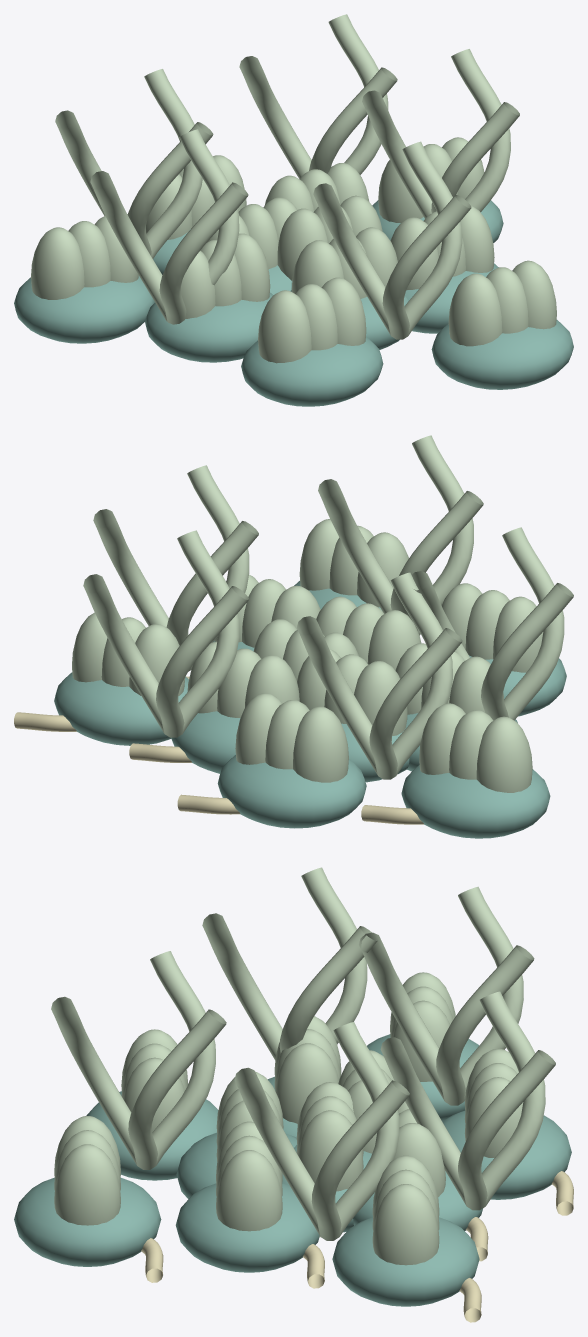
The model's file is bio_acid_mat_09_near.glb.
The picture shows the model from 3 angles, top to bottom: view 1: azimuth 30°, elevation 25°; view 2: azimuth 150°, elevation 25°; view 3: azimuth 270°, elevation 25°; orthographic projection. The views are drawn at different scales.
Parts seen in each view (by area): view 1: Spiral filament.006, Spiral filament.012, Spiral filament, Spiral filament.009, Spiral filament.003, Reaction vesicle.030, Reaction vesicle.021, Microbial cushion.007, Microbial cushion.010, Microbial cushion.009, Reaction vesicle.027, Microbial cushion.004 (+12 smaller); view 2: Spiral filament.009, Spiral filament.003, Spiral filament.006, Spiral filament.012, Spiral filament, Reaction vesicle.018, Reaction vesicle.027, Microbial cushion.006, Microbial cushion.009, Microbial cushion.008, Reaction vesicle.030, Reaction vesicle.021 (+15 smaller); view 3: Spiral filament.006, Spiral filament, Spiral filament.009, Spiral filament.003, Spiral filament.012, Microbial cushion.008, Microbial cushion.010, Microbial cushion.005, Reaction vesicle.030, Reaction vesicle.024, Reaction vesicle.015, Reaction vesicle (+17 smaller).
Part boxes in pixels (<box>): Spiral filament.006: <box>313,141,471,339</box>; Spiral filament.012: <box>90,129,248,324</box>; Spiral filament: <box>362,49,519,218</box>; Spiral filament.009: <box>239,14,397,178</box>; Spiral filament.003: <box>55,69,213,258</box>; Reaction vesicle.030: <box>448,260,556,346</box>; Reaction vesicle.021: <box>258,277,366,363</box>; Microbial cushion.007: <box>241,336,383,406</box>; Microbial cushion.010: <box>431,320,573,389</box>; Microbial cushion.009: <box>14,275,154,343</box>; Reaction vesicle.027: <box>31,216,138,299</box>; Microbial cushion.004: <box>145,292,273,362</box>; Spiral filament.009: <box>83,530,248,737</box>; Spiral filament.003: <box>297,572,462,779</box>; Spiral filament.006: <box>318,435,483,635</box>; Spiral filament.012: <box>411,527,573,720</box>; Spiral filament: <box>93,465,258,671</box>; Reaction vesicle.018: <box>235,693,348,782</box>; Reaction vesicle.027: <box>419,703,532,792</box>; Microbial cushion.006: <box>217,755,366,828</box>; Microbial cushion.009: <box>401,765,550,838</box>; Microbial cushion.008: <box>54,672,188,745</box>; Reaction vesicle.030: <box>299,519,408,607</box>; Reaction vesicle.021: <box>441,583,543,672</box>; Spiral filament.006: <box>51,951,226,1169</box>; Spiral filament: <box>234,1022,409,1240</box>; Spiral filament.009: <box>380,991,555,1210</box>; Spiral filament.003: <box>359,886,534,1105</box>; Spiral filament.012: <box>202,867,377,1059</box>; Microbial cushion.008: <box>332,1217,479,1306</box>; Microbial cushion.010: <box>14,1177,161,1266</box>; Microbial cushion.005: <box>175,1183,319,1272</box>; Reaction vesicle.030: <box>54,1116,120,1225</box>; Reaction vesicle.024: <box>372,1155,439,1265</box>; Reaction vesicle.015: <box>216,1121,282,1231</box>; Reaction vesicle: <box>296,1082,363,1191</box>.
Bounding box in the file's own units: 1.83 × 0.7414 × 1.67.
